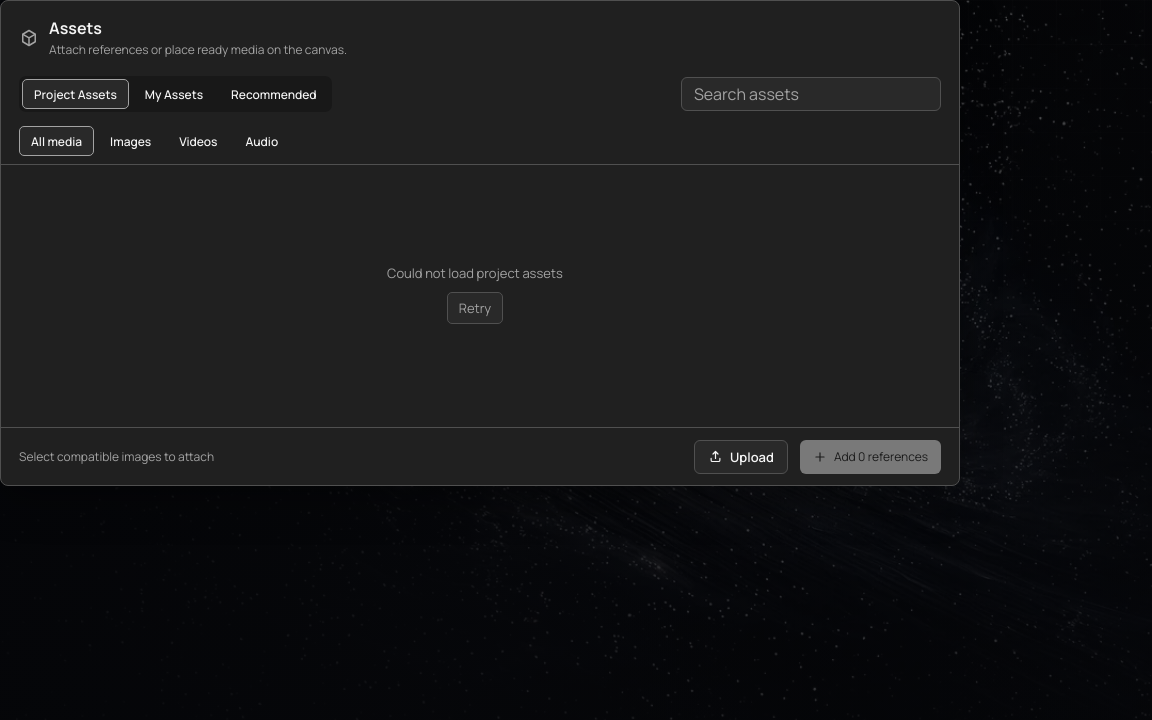
AgentAssetBrowser › shows empty, error, and retry states without leaking the old asset library UI
Check: the message shows "Could not load project assets", box [387, 264, 563, 282]
Click the button with aria-label "Retry loading assets": (475, 308) [447, 292, 503, 324]
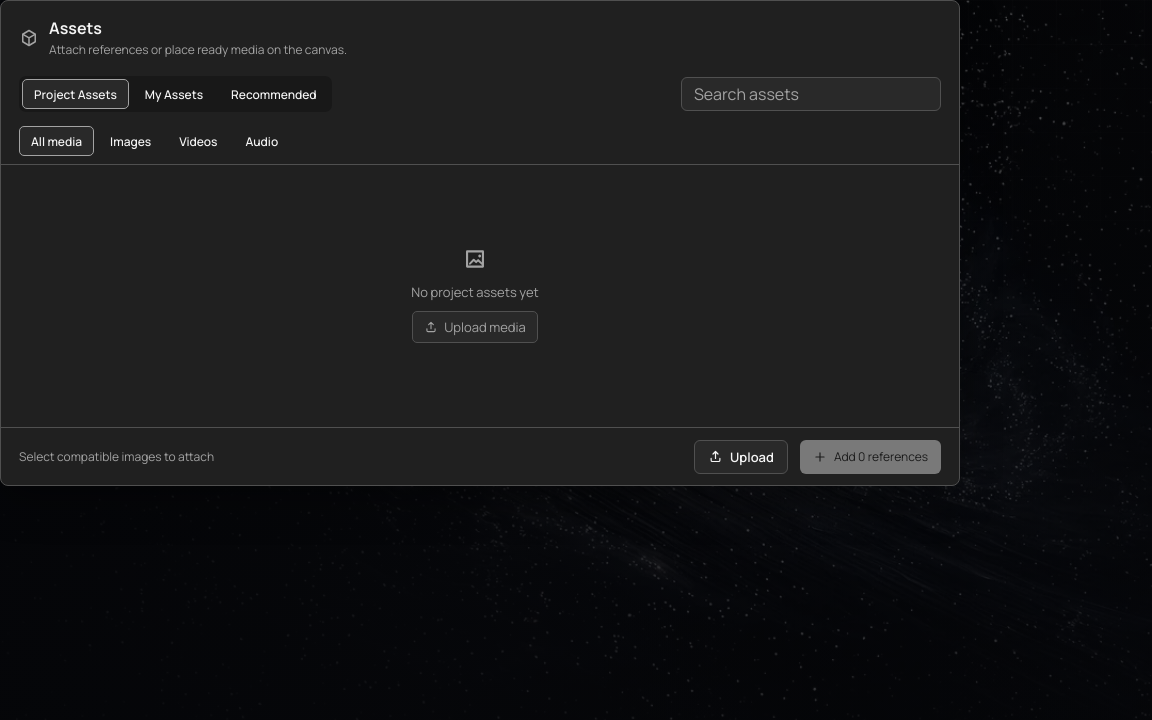
Check: the text "No project assets yet" is shown, box [411, 283, 539, 301]
